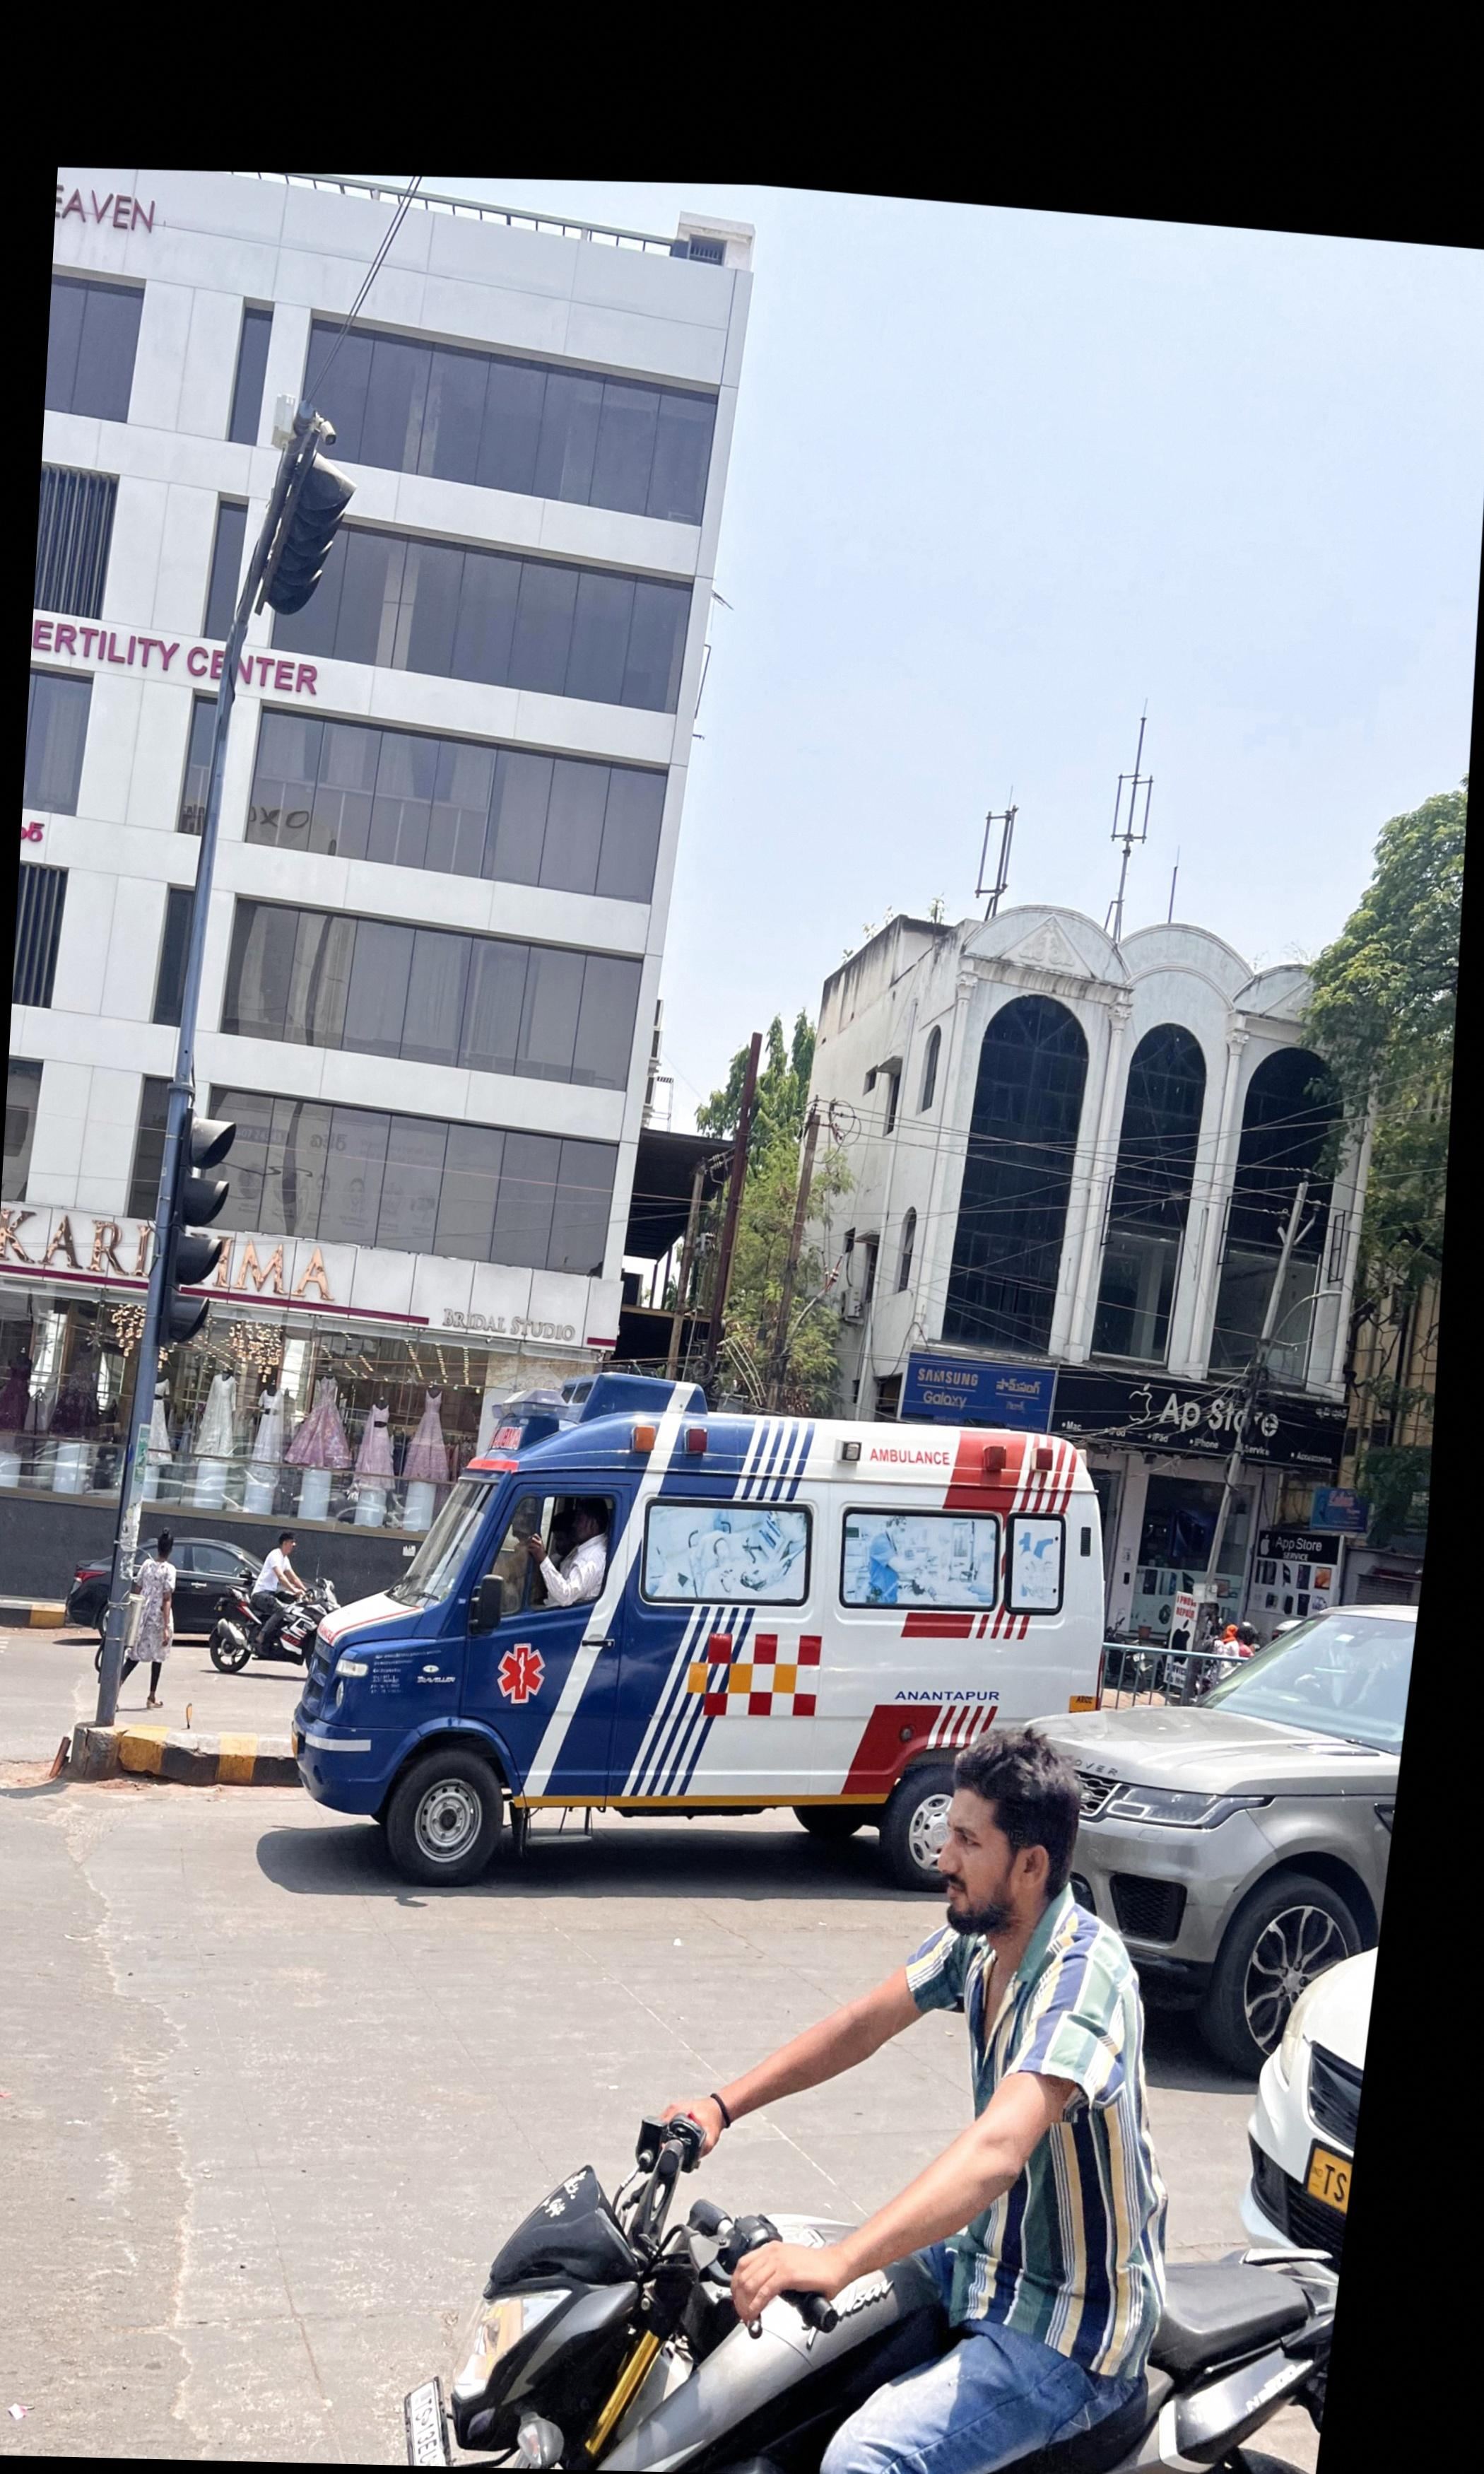ambulance: (293, 1380, 1106, 1893)
